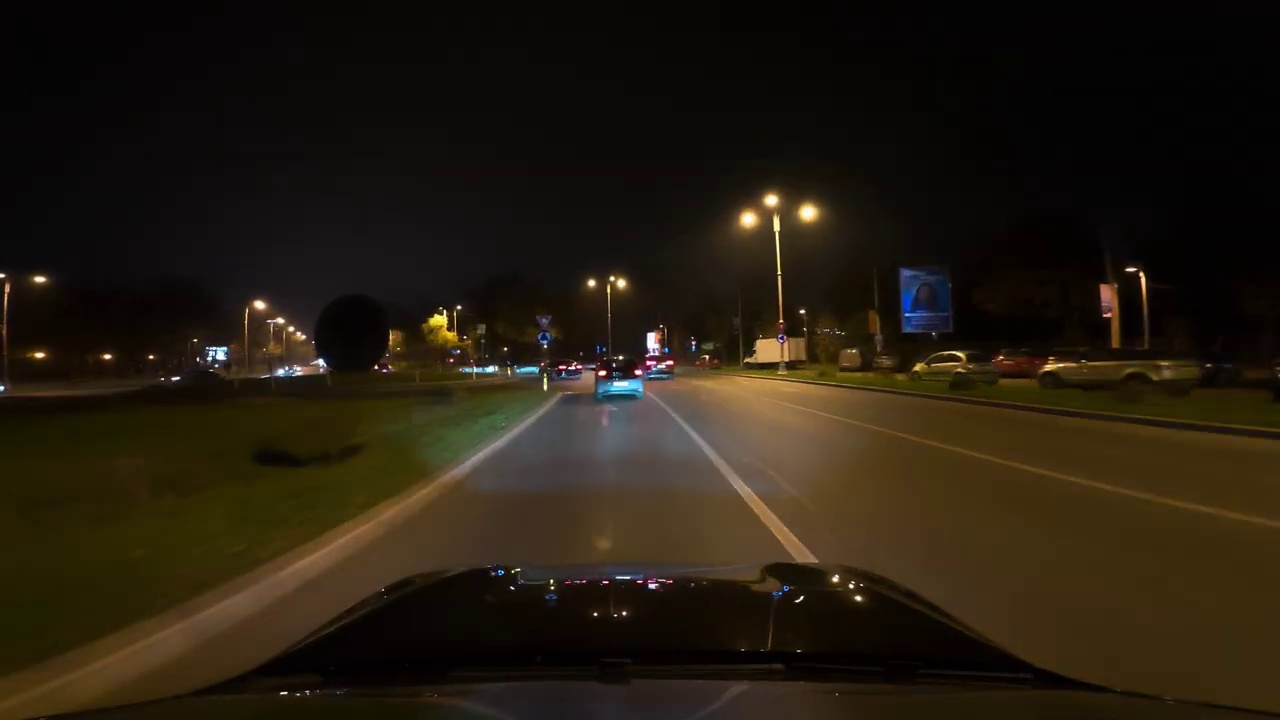acesa: (734, 193, 780, 233), (737, 201, 772, 233), (735, 206, 762, 233), (796, 200, 821, 226), (581, 276, 603, 297)
